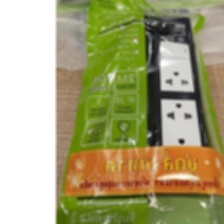three_eye_plug: (136, 12, 215, 199)
